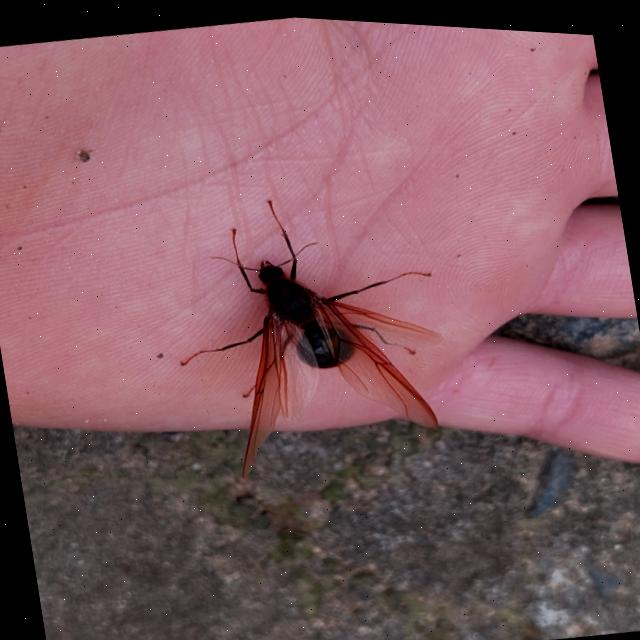Alive-Male-Alate: (156, 168, 462, 493)
